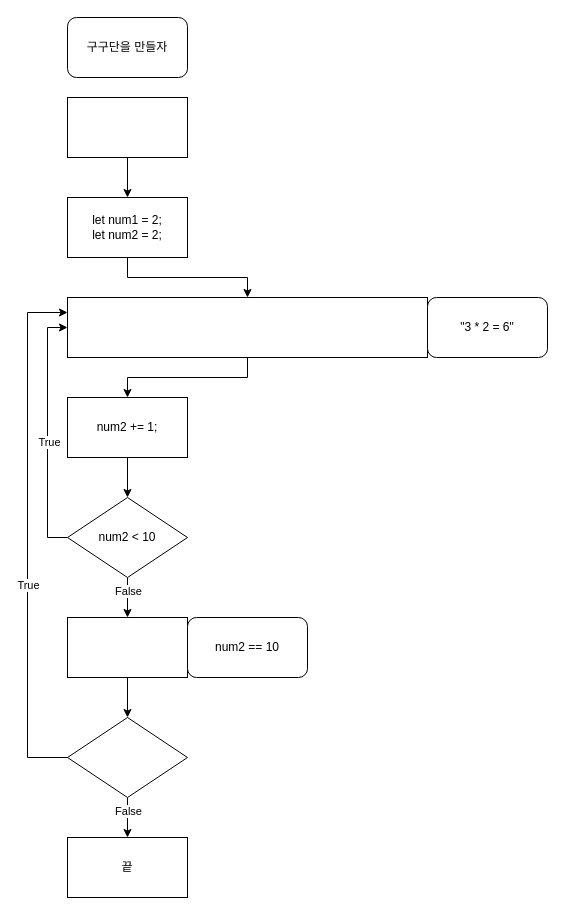
Some shapes in this 565 by 915 pixel diagram are drawn without their labels. The shapes that lost their labels are listed below. From the top down, each one's centre as x and y in pixels, then its label:
(x=127, y=127): 2개의 변수가 필요
(x=247, y=327): console.log(num1 + " * " + num2 + " = " + num1 * num2)
(x=127, y=647): num1 += 1; num2 = 2;
(x=127, y=757): num1 < 10
